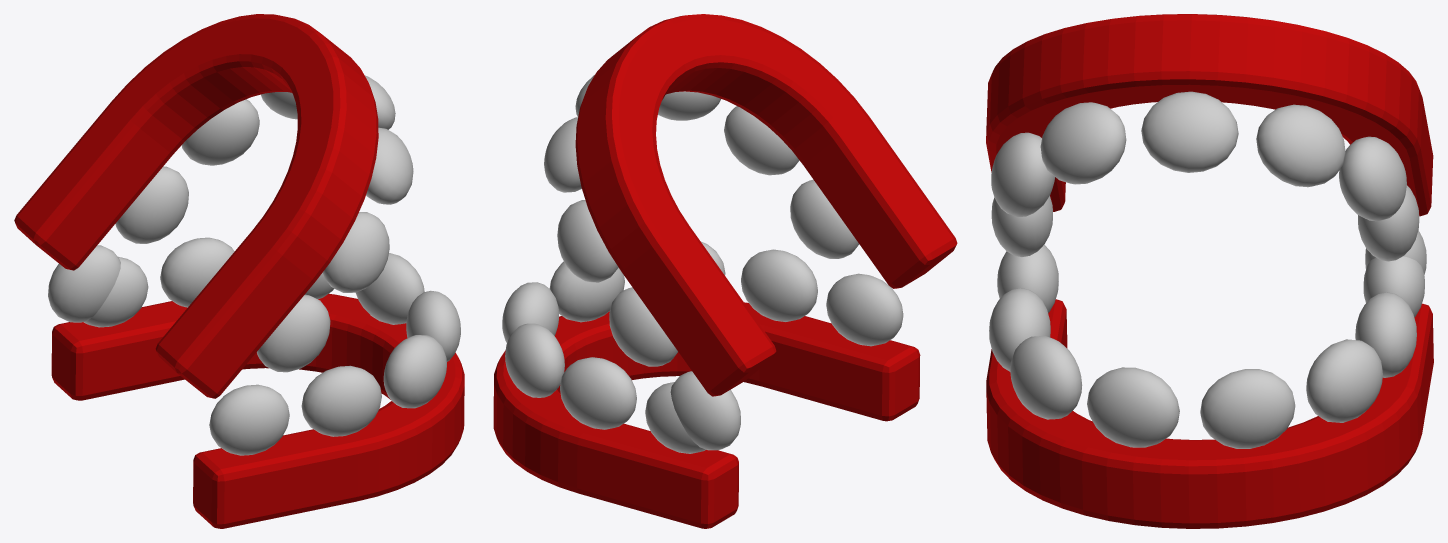
3 views of the same model, side by side, from view 1: azimuth 30°, elevation 25°; view 2: azimuth 150°, elevation 25°; view 3: azimuth 270°, elevation 25° (orthographic). The views are drawn at different scales.
Parts seen in each view (by area): view 1: gum_up, gum_lo, tl0, tl1, tu7, tl2, tu6, tu0, tu1, tu5, tl6, tl4 (+5 smaller); view 2: gum_up, gum_lo, tl1, tl0, tl6, tu7, tl5, tu6, tu0, tu5, tu1, tl3 (+4 smaller); view 3: gum_lo, gum_up, tu3, tl4, tl3, tu4, tu2, tl5, tl2, tu5, tu1, tl6 (+6 smaller).
Boxes of the visible parts, x1,y1,x2,y2 form: gum_up: (14,14,378,398); gum_lo: (51,293,464,528); tl0: (209,384,289,455); tl1: (301,365,381,436); tu7: (48,245,120,322); tl2: (383,335,446,408); tu6: (115,166,188,243); tu0: (257,294,330,372); tu1: (322,212,389,292); tu5: (181,99,259,165); tl6: (160,237,234,307); tl4: (355,253,424,324); gum_up: (575,14,957,396); gum_lo: (493,302,920,528); tl1: (741,249,817,321); tl0: (826,273,903,346); tl6: (560,357,636,429); tu7: (670,371,740,450); tl5: (505,323,564,397); tu6: (609,287,677,366); tu0: (790,179,859,258); tu5: (557,200,618,282); tu1: (724,106,799,175); tl3: (549,261,624,322); gum_lo: (986,299,1433,528); gum_up: (986,14,1433,216); tu3: (1141,91,1238,172); tl4: (1200,369,1295,448); tl3: (1087,367,1179,447); tu4: (1256,104,1345,187); tu2: (1040,102,1126,184); tl5: (1306,339,1382,422); tl2: (1010,336,1082,419); tu5: (1339,136,1406,221); tu1: (991,132,1055,216); tl6: (1355,292,1416,377).
Bounding box in the file's own units: 1.06 × 1.14 × 1.03.
